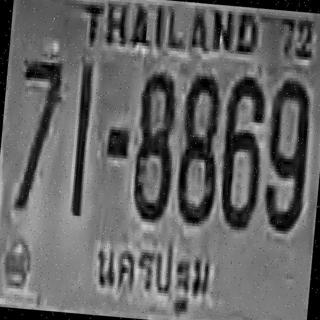N01: (68, 60, 94, 216)
N06: (217, 72, 267, 228)
N07: (10, 56, 62, 212)
N08: (130, 68, 180, 221), (174, 72, 224, 225)
N09: (260, 76, 311, 230)
P28: (88, 224, 223, 316)
